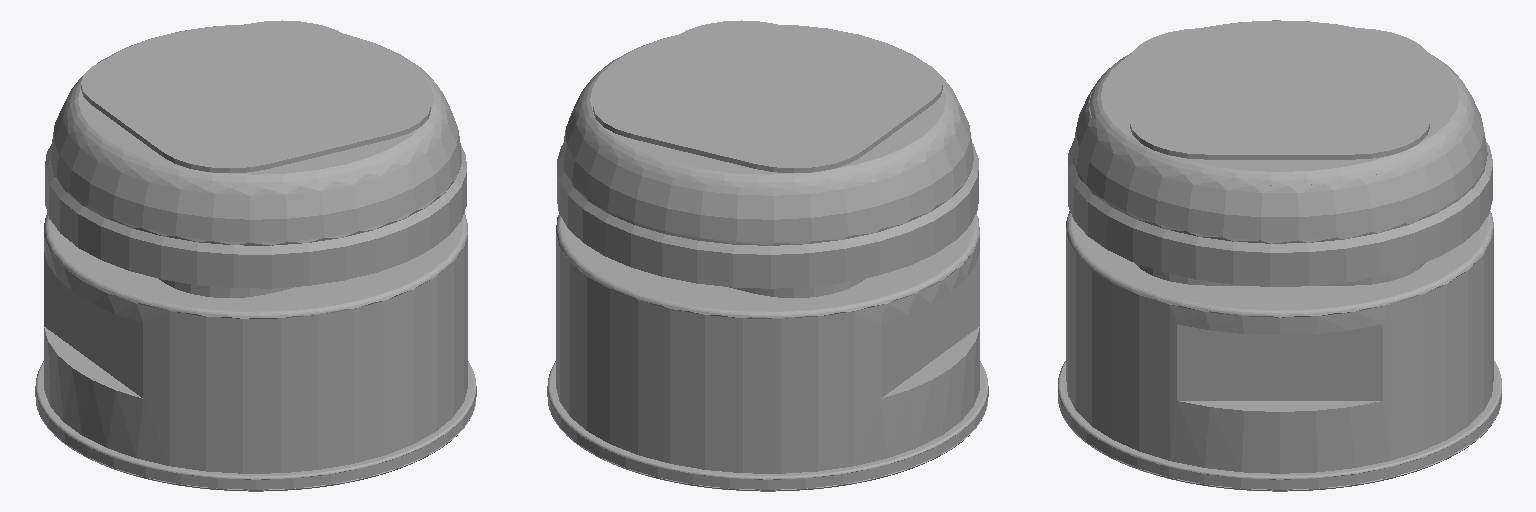
URDF robot description (robot):
<?xml version="1.0" ?>
<!-- =================================================================================== -->
<!-- |    This document was autogenerated by xacro from robot.urdf.xacro               | -->
<!-- |    EDITING THIS FILE BY HAND IS NOT RECOMMENDED                                 | -->
<!-- =================================================================================== -->
<robot name="robot" xmlns:xacro="http://www.ros.org/wiki/xacro">
  <material name="Black">
    <color rgba="0.0 0.0 0.0 1.0"/>
  </material>
  <material name="Blue">
    <color rgba="0.0 0.0 0.8 1.0"/>
  </material>
  <material name="Green">
    <color rgba="0.0 0.8 0.0 1.0"/>
  </material>
  <material name="Gray">
    <color rgba="0.7 0.7 0.7 1.0"/>
  </material>
  <material name="DarkGray">
    <color rgba="0.3 0.3 0.3 1.0"/>
  </material>
  <material name="Red">
    <color rgba="0.8 0.0 0.0 1.0"/>
  </material>
  <material name="White">
    <color rgba="1.0 1.0 1.0 1.0"/>
  </material>
  <material name="Yellow">
    <color rgba="0.8 0.8 0.0 1.0"/>
  </material>
  <!-- in kg-->
  <!-- BASE-FOOTPRINT -->
  <!-- base_footprint is a fictitious link(frame) that is on the ground right below base_link origin -->
  <link name="base_footprint">
    <inertial>
      <mass value="0.0001"/>
      <origin xyz="0 0 0"/>
      <inertia ixx="0.0001" ixy="0.0" ixz="0.0" iyy="0.0001" iyz="0.0" izz="0.0001"/>
    </inertial>
    <visual>
      <origin rpy="0 0 0" xyz="0 0 0"/>
      <geometry>
        <box size="0.001 0.001 0.001"/>
      </geometry>
    </visual>
  </link>
  <gazebo reference="base_footprint">
    <turnGravityOff>false</turnGravityOff>
  </gazebo>
  <!-- BASE-LINK -->
  <joint name="base_footprint_joint" type="fixed">
    <origin rpy="0 0 0" xyz="0 0 0"/>
    <parent link="base_footprint"/>
    <child link="base_link"/>
  </joint>
  <link name="base_link">
    <visual>
      <origin rpy="1.57079632679 0 0" xyz="0 0 0.03"/>
      <geometry>
        <mesh filename="package://robot_description/meshes/row_robot.stl"/>
      </geometry>
      <material name="Gray"/>
    </visual>
    <collision>
      <origin rpy="1.57079632679 0 0" xyz="0 0 0.03"/>
      <geometry>
        <mesh filename="package://robot_description/meshes/robot.stl"/>
      </geometry>
    </collision>
    <inertial>
      <mass value="240"/>
      <inertia ixx="43.766" ixy="0" ixz="0" iyy="43.766" iyz="0" izz="71.148"/>
    </inertial>
  </link>
  <gazebo reference="base_link">
    <material>Gazebo/Gray</material>
    <turnGravityOff>false</turnGravityOff>
  </gazebo>
  <!-- BOAD -->
  <joint name="boad_joint" type="prismatic">
    <origin rpy="0.0 0.0 0.0" xyz="0.0 0.0 0.39"/>
    <parent link="base_link"/>
    <child link="boad"/>
    <axis xyz="0.0 0.0 1.0"/>
    <limit effort="1000.0" lower="0.0" upper="0.10" velocity="0.5"/>
  </joint>
  <link name="boad">
    <visual>
      <origin rpy="1.57079632679 0.0 0.0" xyz="0.0 0.0 0.0"/>
      <geometry>
        <mesh filename="package://robot_description/meshes/boad.stl"/>
      </geometry>
      &gt;
            
      <material name="Gray"/>
    </visual>
    <collision>
      <origin rpy="1.57079632679 0.0 0.0" xyz="0.0 0.0 0.0"/>
      <geometry>
        <mesh filename="package://robot_description/meshes/boad.stl"/>
      </geometry>
    </collision>
    <inertial>
      <mass value="1e-5"/>
      <origin rpy="0 0 0" xyz="0 0 -0.01"/>
      <inertia ixx="1e-6" ixy="0" ixz="0" iyy="1e-6" iyz="0" izz="1e-6"/>
    </inertial>
  </link>
  <gazebo reference="boad">
    <material>Gazebo/Gray</material>
    <turnGravityOff>true</turnGravityOff>
  </gazebo>
  <transmission name="trans_boad">
    <type>transmission_interface/SimpleTransmission</type>
    <joint name="boad_joint">
      <hardwareInterface>EffortJointInterface</hardwareInterface>
    </joint>
    <actuator name="motor_boad">
      <hardwareInterface>EffortJointInterface</hardwareInterface>
      <mechanicalReduction>1</mechanicalReduction>
    </actuator>
  </transmission>
  <!-- SENSOR -->
  <joint name="hokuyo_joint" type="fixed">
    <origin rpy="0 0 0" xyz="0.339 0 0.36"/>
    <parent link="base_link"/>
    <child link="base_scan"/>
  </joint>
  <link name="base_scan">
    <collision>
      <origin rpy="0 0 0" xyz="0 0 -0.01"/>
      <geometry>
        <box size="0.01 0.01 0.01"/>
      </geometry>
    </collision>
    <visual>
      <origin rpy="0 0 0" xyz="0 0 -0.01"/>
      <geometry>
        <box size="0.01 0.01 0.01"/>
      </geometry>
      <material name="White"/>
    </visual>
    <inertial>
      <mass value="1e-5"/>
      <origin rpy="0 0 0" xyz="0 0 -0.01"/>
      <inertia ixx="1e-6" ixy="0" ixz="0" iyy="1e-6" iyz="0" izz="1e-6"/>
    </inertial>
  </link>
  <gazebo reference="base_scan">
    <sensor name="head_hokuyo_sensor" type="ray">
      <pose>0 0 0 0 0 0</pose>
      <visualize>true</visualize>
      <update_rate>40</update_rate>
      <ray>
        <scan>
          <horizontal>
            <samples>720</samples>
            <resolution>1</resolution>
            <min_angle>-0.78539816339</min_angle>
            <max_angle>0.78539816339</max_angle>
          </horizontal>
        </scan>
        <range>
          <min>0.50</min>
          <max>30.0</max>
          <resolution>0.01</resolution>
        </range>
        <noise>
          <type>gaussian</type>
          <mean>0.0</mean>
          <stddev>0.01</stddev>
        </noise>
      </ray>
      <plugin filename="libgazebo_ros_laser.so" name="gazebo_ros_head_hokuyo_controller">
        <alwaysOn>true</alwaysOn>
        <topicName>/laser_scan</topicName>
        <frameName>/base_scan</frameName>
      </plugin>
    </sensor>
  </gazebo>
  <gazebo>
    <plugin filename="libgazebo_ros_planar_move.so" name="object_controller">
      <commandTopic>cmd_vel</commandTopic>
      <odometryTopic>odom</odometryTopic>
      <odometryFrame>odom</odometryFrame>
      <odometryRate>20.0</odometryRate>
      <robotBaseFrame>base_footprint</robotBaseFrame>
    </plugin>
    <plugin filename="libgazebo_ros_control.so" name="gazebo_ros_control"/>
    <robotNamespace>/robot</robotNamespace>
  </gazebo>
</robot>

--- What the picture shows (computed from the rendered views, not written in the file) ---
3 views of the same robot in one strip: view 1: azimuth 30°, elevation 25°; view 2: azimuth 150°, elevation 25°; view 3: azimuth 270°, elevation 25° (orthographic).
Robot: robot — 4 links, 3 joints (1 prismatic, 2 fixed); root link base_footprint; default pose: every joint at zero.
Visible links, largest first — view 1: base_link, boad; view 2: base_link, boad; view 3: base_link, boad.
Boxes of the visible links, <box> form: base_link: <box>35,24,476,491</box>; boad: <box>81,20,430,292</box>; base_link: <box>547,25,988,491</box>; boad: <box>593,20,942,292</box>; base_link: <box>1058,20,1501,491</box>; boad: <box>1130,28,1429,279</box>.
Size in the robot's own frame: 0.8 by 0.8 by 0.6405 metres.
Meshes: 2 distinct files referenced, 2 mesh visuals loaded (2 binary STL).
